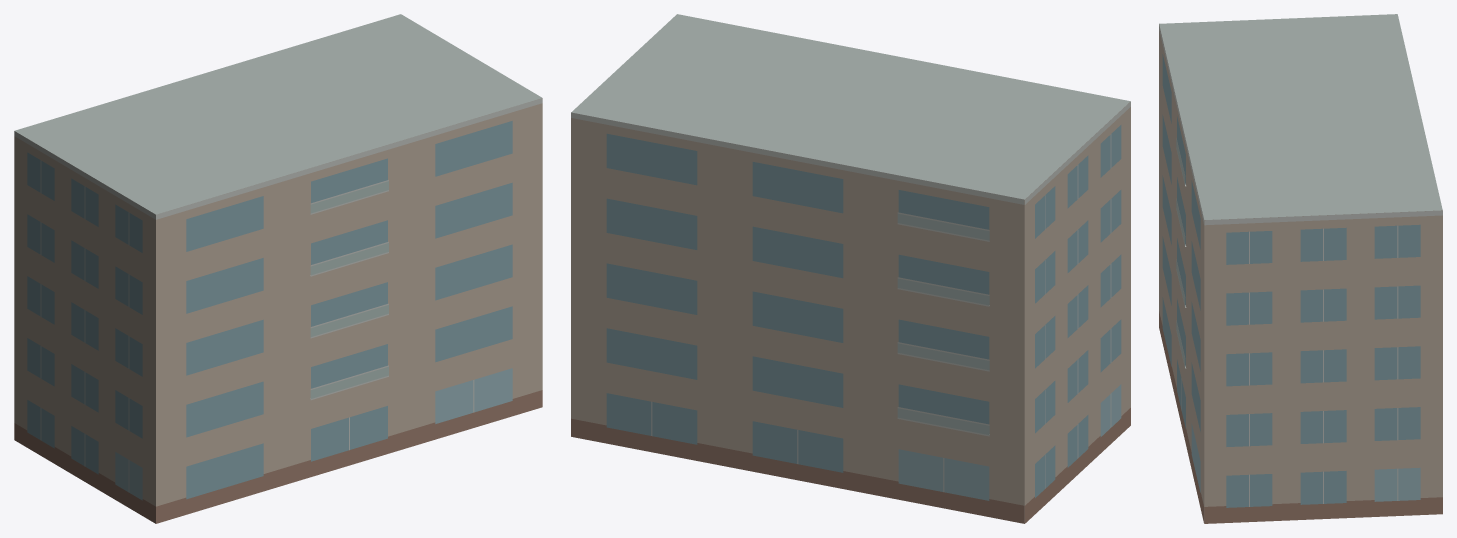
Rendered from survey-upis-32973818.glb.
3 renders of one model, left to right at view 1: azimuth 30°, elevation 25°; view 2: azimuth 150°, elevation 25°; view 3: azimuth 270°, elevation 25°, orthographic. The views are drawn at different scales.
Visible parts, largest first — view 1: survey-upis-32973818.tmp; view 2: survey-upis-32973818.tmp; view 3: survey-upis-32973818.tmp.
Part boxes in pixels (x1,y1,x2,y2): survey-upis-32973818.tmp: (14, 14, 542, 523); survey-upis-32973818.tmp: (571, 14, 1130, 523); survey-upis-32973818.tmp: (1159, 14, 1442, 523).
Bounding box in the file's own units: 21.18 × 14.55 × 12.33.
